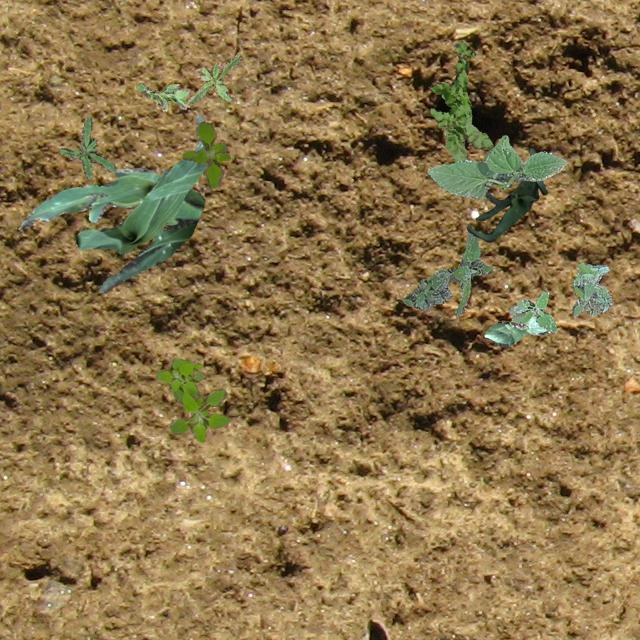crop: (18, 166, 204, 292), (75, 114, 206, 252), (426, 134, 566, 198), (466, 147, 546, 240), (482, 314, 552, 346)
weed: (429, 40, 492, 162), (402, 230, 492, 314), (156, 358, 230, 442), (59, 116, 114, 178), (182, 120, 230, 188), (187, 52, 240, 102), (570, 262, 612, 314), (508, 290, 556, 332), (136, 82, 188, 110)
